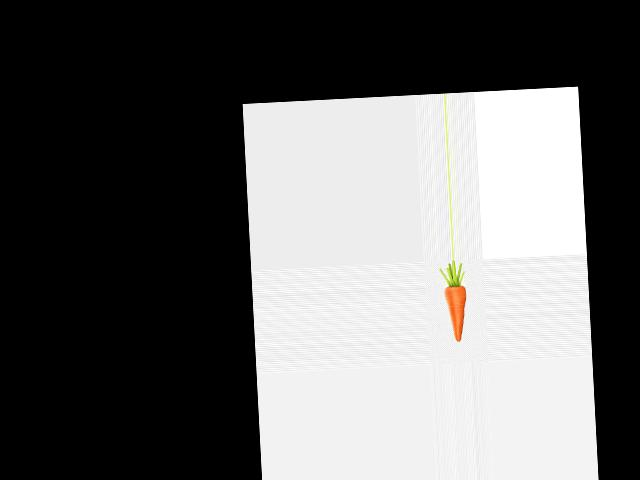carrot: (440, 280, 470, 343)
